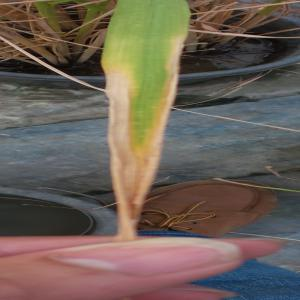Bacterial_Blight: (99, 16, 184, 233)
